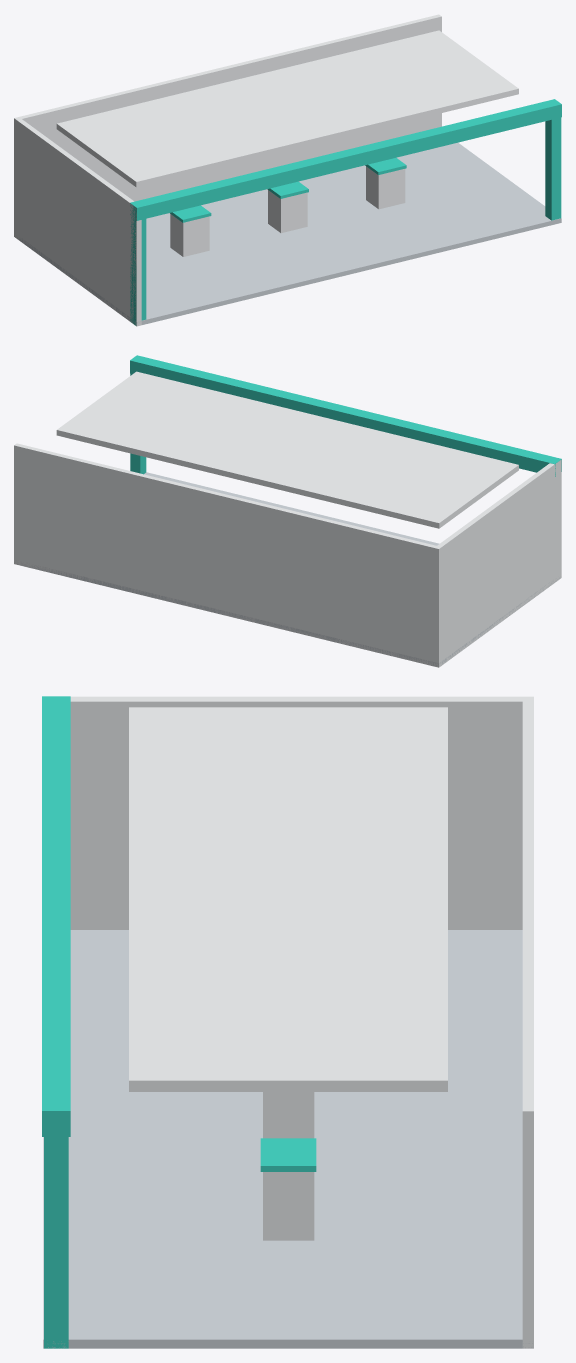
3 renders of one model, top to bottom at view 1: azimuth 30°, elevation 25°; view 2: azimuth 150°, elevation 25°; view 3: azimuth 270°, elevation 25°, orthographic. The views are drawn at different scales.
Parts seen in each view (by area): view 1: Exhibition Booth Concept; view 2: Exhibition Booth Concept; view 3: Exhibition Booth Concept.
Part boxes in pixels (<box>): Exhibition Booth Concept: <box>14,14,561,326</box>; Exhibition Booth Concept: <box>14,355,561,667</box>; Exhibition Booth Concept: <box>42,696,533,1348</box>.
Bounding box in the file's own units: 12 × 3.34 × 6.02.
